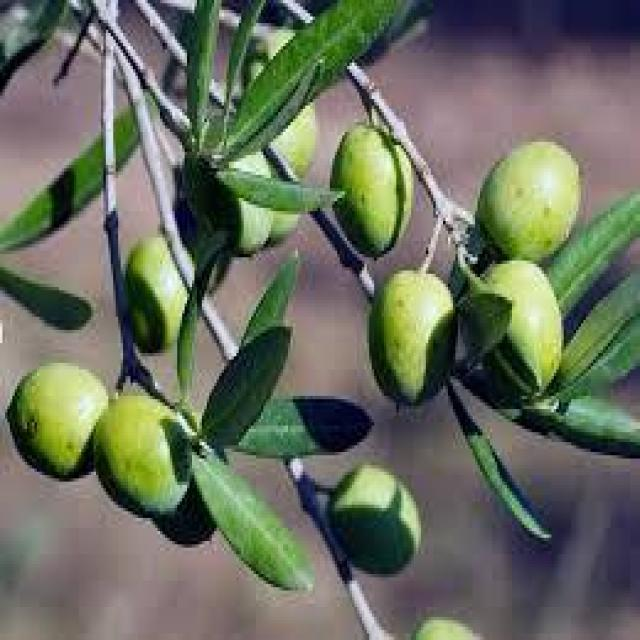Olive Fruit Fly: (475, 139, 581, 261), (369, 271, 455, 409), (5, 363, 108, 478), (330, 122, 414, 257)
